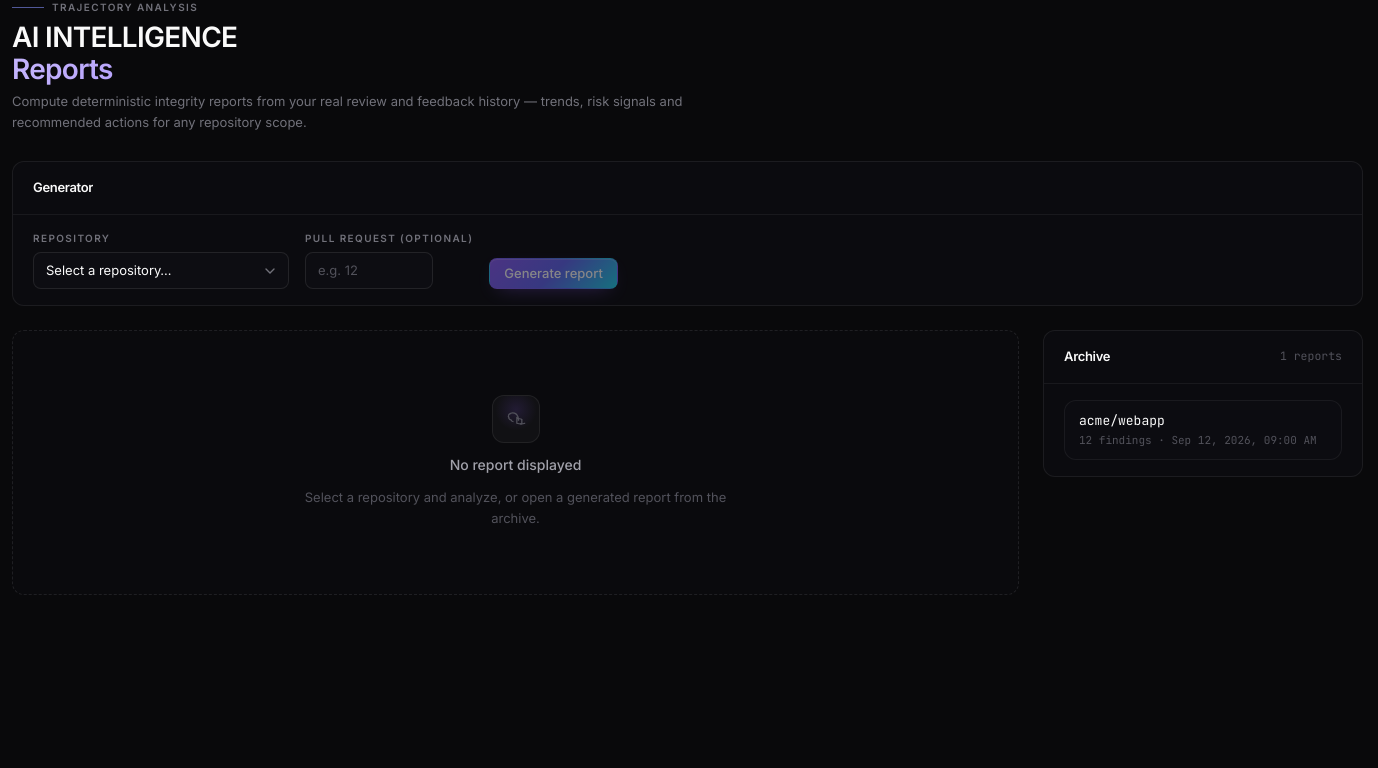
InsightsPage › opens an archived report from the archive
This screenshot has width=1378, height=768.
Expected: the text "No report displayed" is shown, 450,455 -> 581,475
Click the button "acme/webapp 12 findings · Sep 12, 2026, 09:00 AM". click: (1095, 420)
box: 1064,400 -> 1342,460
(page scrolled)
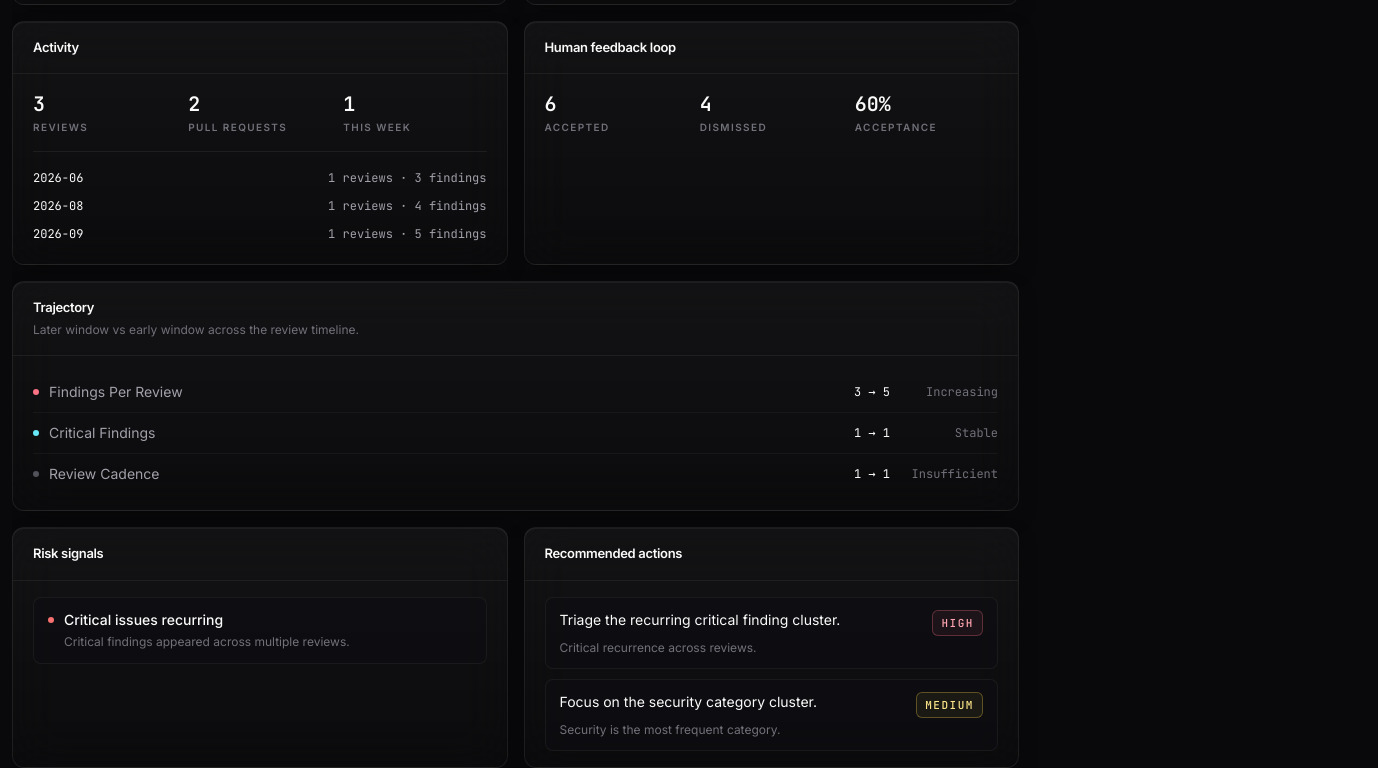
Now the heading "Recommended actions" is shown, box 544,544 -> 682,564
Now the text "Critical issues recurring" is shown, box 64,611 -> 223,628
